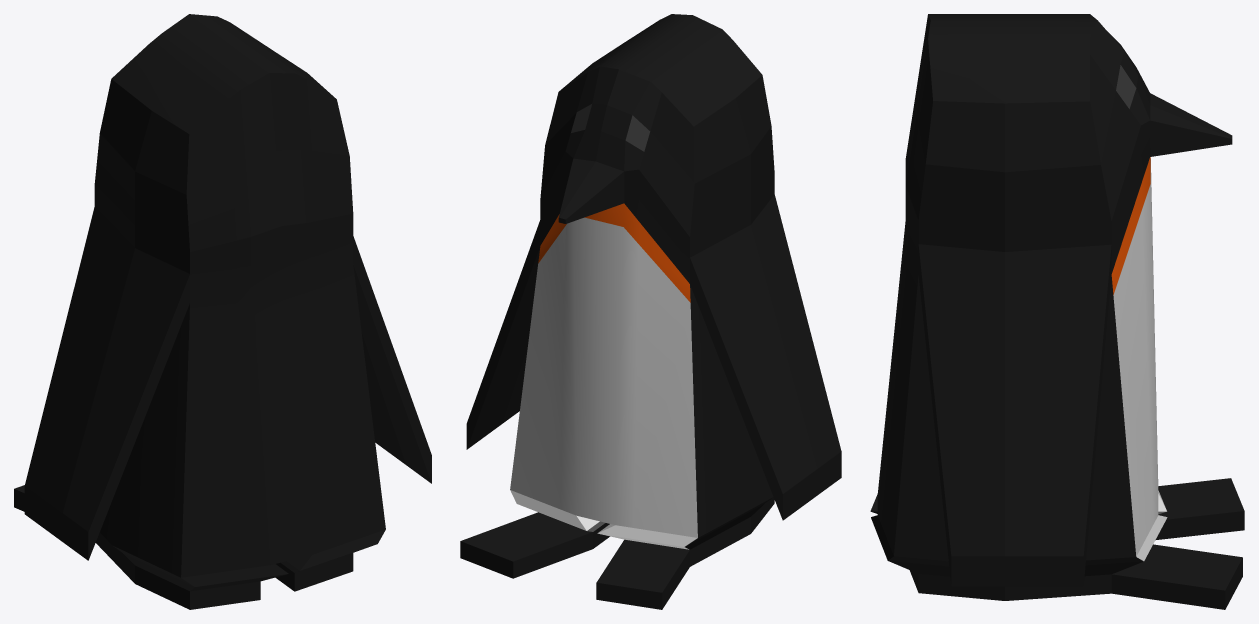
Rendered from sad penguin export.fbx.
3 renders of one model, left to right at view 1: azimuth 30°, elevation 25°; view 2: azimuth 150°, elevation 25°; view 3: azimuth 270°, elevation 25°, orthographic. The views are drawn at different scales.
Parts seen in each view (by area): view 1: Box001; view 2: Box001; view 3: Box001.
Boxes of the visible parts, <box> form: Box001: <box>14,14,431,609</box>; Box001: <box>460,14,841,609</box>; Box001: <box>870,14,1244,609</box>.
Size of the model in its own units: 21.79 by 31.11 by 19.79.
